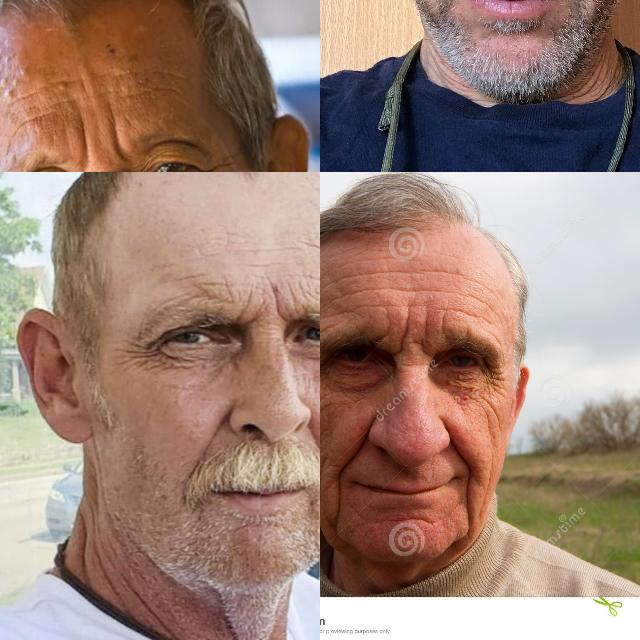chin: (392, 510, 434, 528)
crows_feet: (125, 332, 163, 368), (485, 364, 507, 396), (200, 157, 230, 172), (320, 356, 328, 384)
forehead: (236, 238, 292, 260), (202, 274, 242, 304), (280, 273, 320, 303), (334, 264, 384, 284), (138, 78, 182, 100), (442, 265, 481, 289), (388, 262, 428, 284), (450, 300, 484, 322), (351, 297, 392, 315), (8, 85, 40, 108), (15, 112, 51, 132), (148, 66, 192, 82), (342, 282, 374, 302), (394, 282, 438, 296), (301, 236, 320, 265)
frown_line: (105, 118, 129, 160), (264, 284, 288, 320), (76, 124, 94, 164), (238, 292, 258, 324), (396, 320, 412, 356), (418, 317, 432, 349), (378, 314, 394, 340), (435, 311, 449, 337)
gummy_smile: (203, 400, 229, 458), (338, 432, 372, 471), (448, 433, 477, 471)
masseter: (486, 399, 504, 431), (320, 391, 333, 420)
sad_smile: (454, 482, 478, 526), (328, 480, 350, 520)
